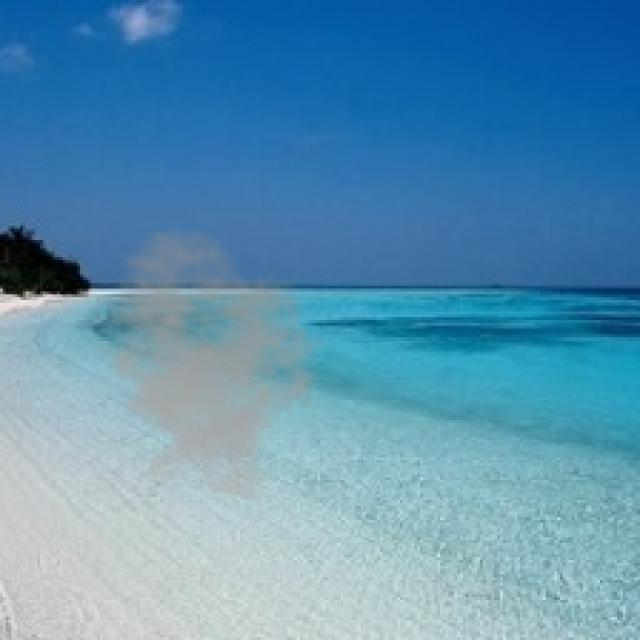Smoke: (82, 226, 328, 503)
